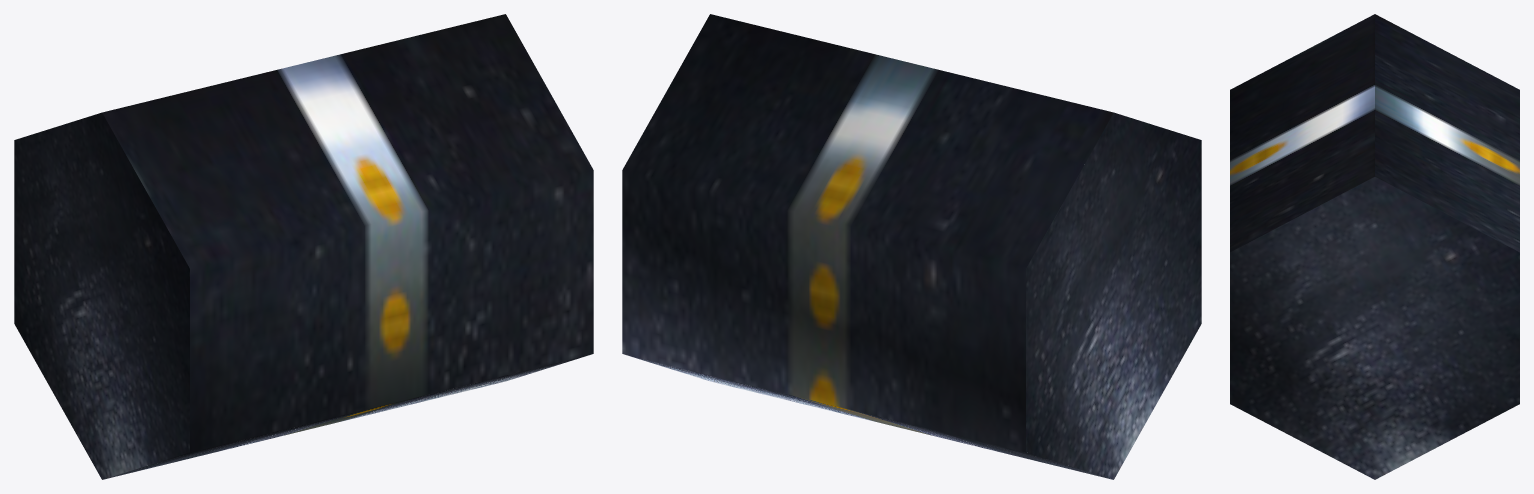
File: Hammer.glb
3 views of the same model, side by side, from view 1: azimuth 30°, elevation 25°; view 2: azimuth 150°, elevation 25°; view 3: azimuth 270°, elevation 25° (orthographic). The views are drawn at different scales.
Parts seen in each view (by area): view 1: Hammer.jpg__; view 2: Hammer.jpg__; view 3: Hammer.jpg__.
Boxes of the visible parts, bbox=[...] form: Hammer.jpg__: bbox=[14, 14, 593, 479]; Hammer.jpg__: bbox=[622, 14, 1201, 479]; Hammer.jpg__: bbox=[1230, 14, 1519, 479].
Bounding box in the file's own units: 5.13 × 4.46 × 3.86.
Materials: 1 (1 with a texture image).
